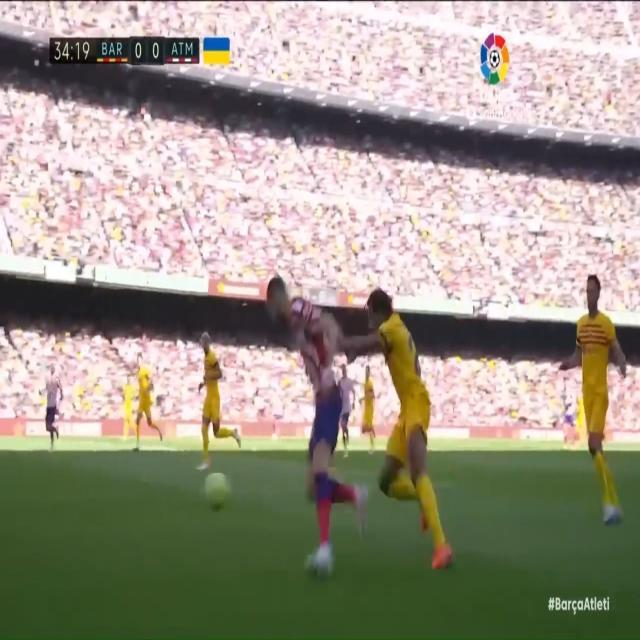ball: (202, 455, 232, 525)
player: (260, 255, 356, 588), (354, 263, 457, 568), (557, 248, 633, 533), (193, 319, 243, 478), (128, 334, 166, 464), (37, 351, 63, 462), (333, 354, 356, 460), (357, 355, 377, 466)
